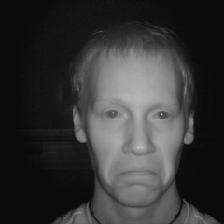sad: (63, 12, 198, 214)
